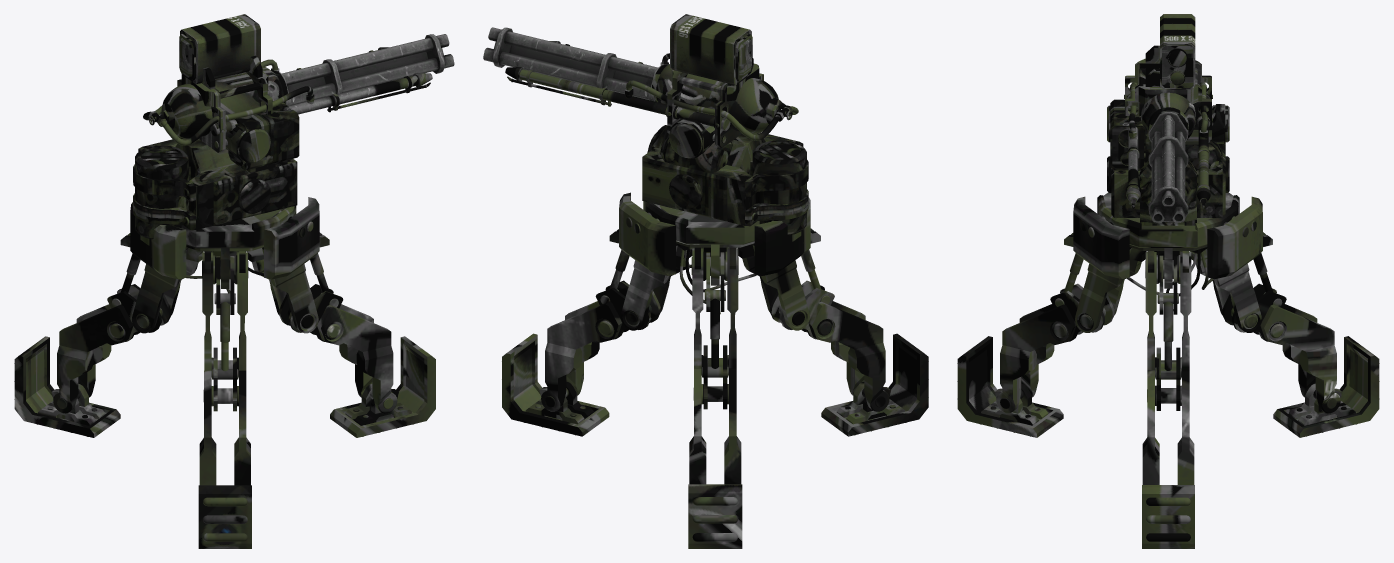
Rendered from Gun_Turret.fbx.
The picture shows the model from 3 angles, left to right: view 1: azimuth 30°, elevation 25°; view 2: azimuth 150°, elevation 25°; view 3: azimuth 270°, elevation 25°; orthographic projection.
Parts seen in each view (by area): view 1: S_Base, S_Head_Flamer, S_Head_Gun_Body, S_Head_Gun_Barrel; view 2: S_Base, S_Head_Flamer, S_Head_Gun_Body, S_Head_Gun_Barrel; view 3: S_Base, S_Head_Flamer, S_Head_Gun_Body, S_Head_Gun_Barrel.
Boxes of the visible parts, <box> form: S_Base: <box>14,197,435,548</box>; S_Head_Flamer: <box>143,14,432,163</box>; S_Head_Gun_Body: <box>133,102,299,245</box>; S_Head_Gun_Barrel: <box>278,34,454,106</box>; S_Base: <box>502,192,928,548</box>; S_Head_Flamer: <box>505,14,798,158</box>; S_Head_Gun_Body: <box>642,125,808,241</box>; S_Head_Gun_Barrel: <box>483,27,661,101</box>; S_Base: <box>957,192,1379,548</box>; S_Head_Flamer: <box>1107,14,1229,208</box>; S_Head_Gun_Body: <box>1107,99,1229,225</box>; S_Head_Gun_Barrel: <box>1148,112,1188,222</box>.
Size of the model in its own units: 145 by 176 by 156.
